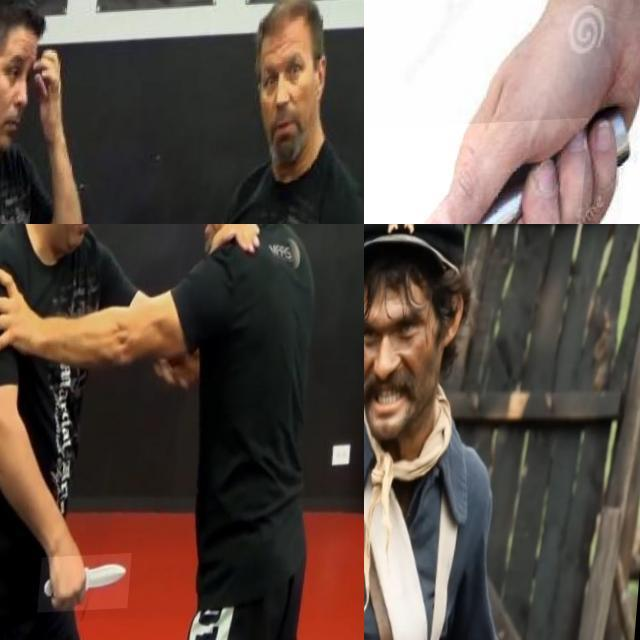-: (364, 123, 620, 224), (47, 556, 141, 615)
gun-knife-thesis - v11 Yolov5 augmented: (364, 263, 444, 523)
